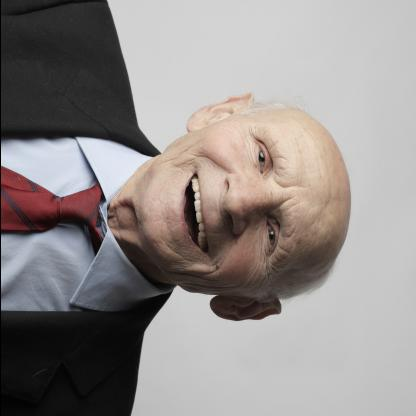Eye: (251, 137, 271, 178), (263, 215, 279, 258)
Mouth: (178, 170, 210, 257)
Nose: (221, 173, 275, 236)
